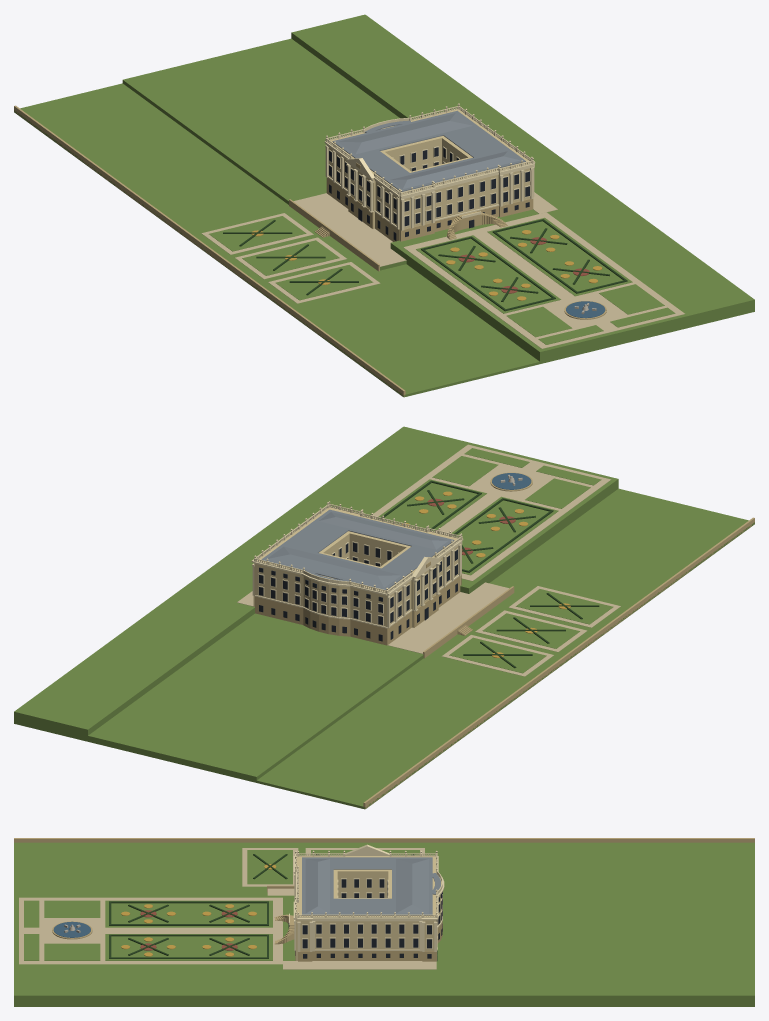
The model's file is chatsworth-b50.glb.
3 renders of one model, top to bottom at view 1: azimuth 30°, elevation 25°; view 2: azimuth 150°, elevation 25°; view 3: azimuth 270°, elevation 25°, orthographic. The views are drawn at different scales.
Bounding box in the file's own units: 15.2 × 2.82 × 29.2.
